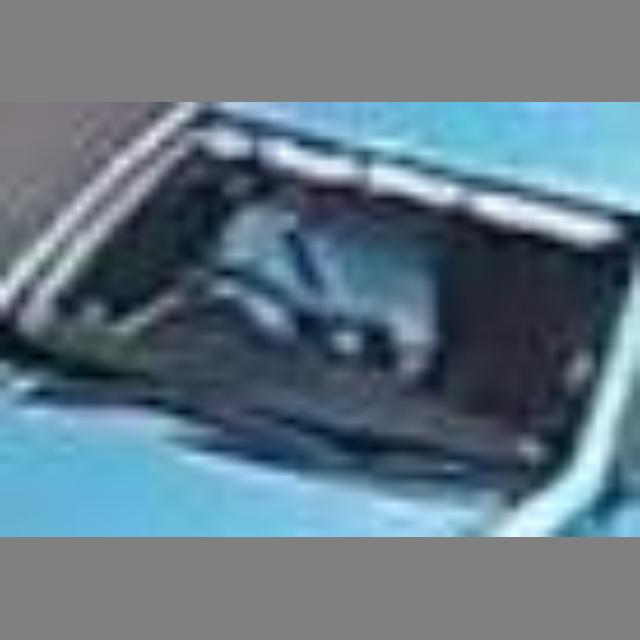pakai: (158, 176, 417, 436)
